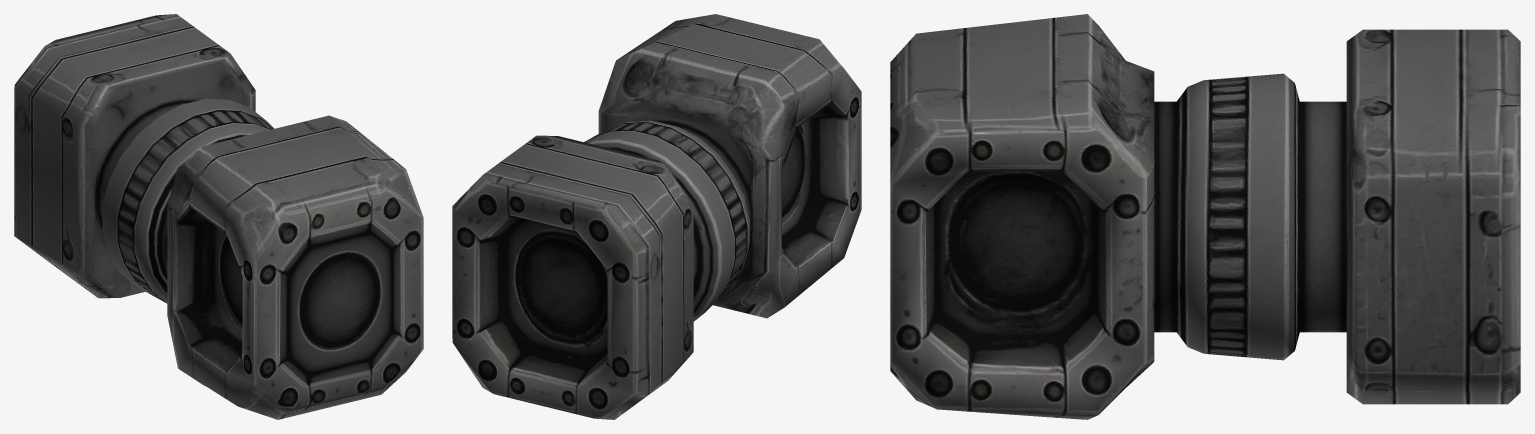
The model's file is cold-iron-v2-joint-a-hinge.glb.
3 renders of one model, left to right at view 1: azimuth 30°, elevation 25°; view 2: azimuth 150°, elevation 25°; view 3: azimuth 270°, elevation 25°, orthographic. The views are drawn at different scales.
Visible parts, largest first — view 1: tripo_node_88d3002d-4e4c-481f-a590-0943da1d0ddd; view 2: tripo_node_88d3002d-4e4c-481f-a590-0943da1d0ddd; view 3: tripo_node_88d3002d-4e4c-481f-a590-0943da1d0ddd.
Part boxes in pixels (x1=…): tripo_node_88d3002d-4e4c-481f-a590-0943da1d0ddd: x1=14, y1=14, x2=423, y2=419; tripo_node_88d3002d-4e4c-481f-a590-0943da1d0ddd: x1=452, y1=14, x2=861, y2=419; tripo_node_88d3002d-4e4c-481f-a590-0943da1d0ddd: x1=890, y1=14, x2=1520, y2=419.
Size of the model in its own units: 0.4863 by 0.5645 by 0.998.
1 material, 1 textured.
